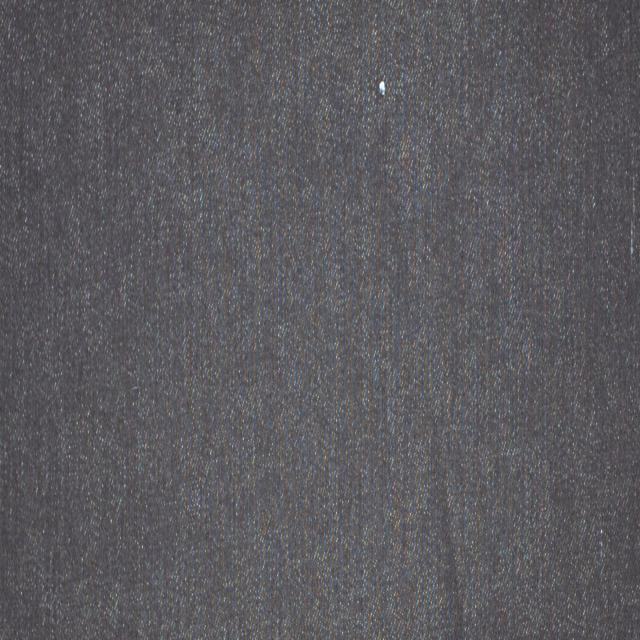Knot: (379, 80, 387, 96)
